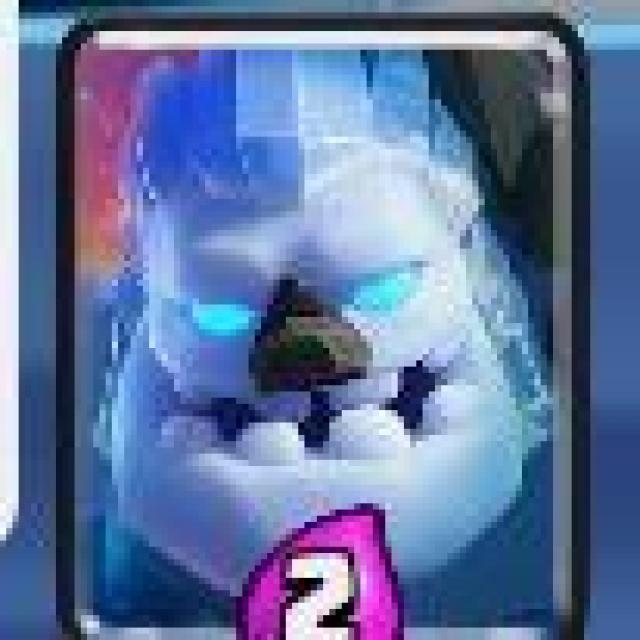Ice_Golem: (55, 21, 590, 640)
